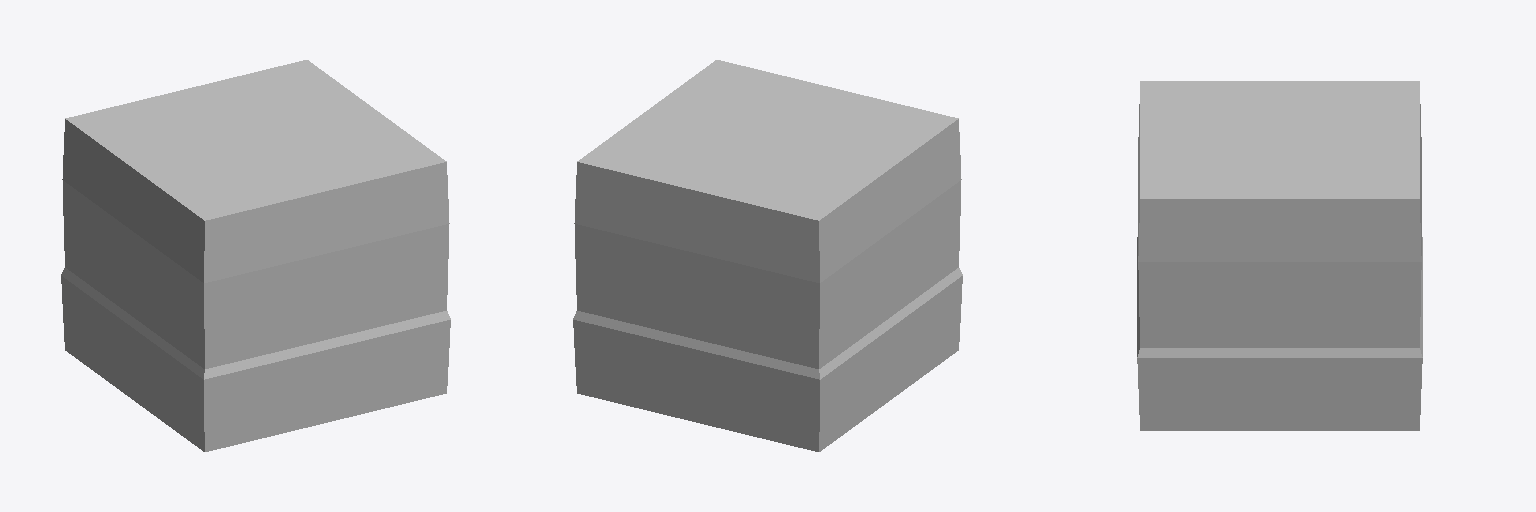
File: flatFat.obj
3 renders of one model, left to right at view 1: azimuth 30°, elevation 25°; view 2: azimuth 150°, elevation 25°; view 3: azimuth 270°, elevation 25°, orthographic.
Size of the model in its own units: 1.12 by 1 by 1.12.